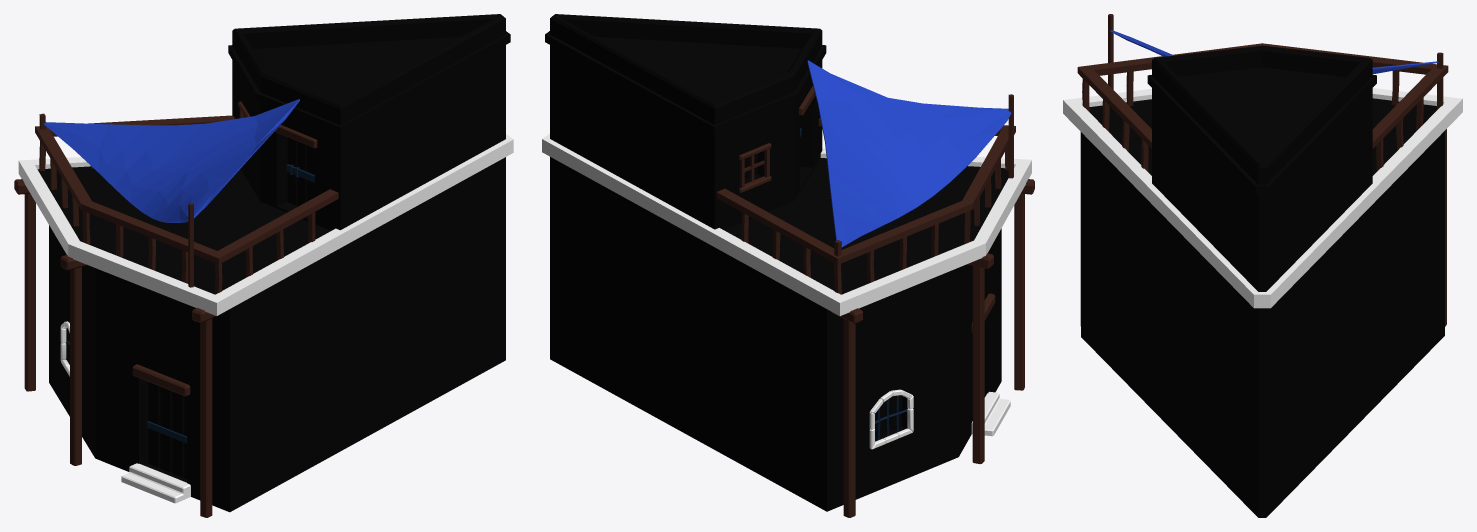
File: civilian_house_30_e.FBX
3 renders of one model, left to right at view 1: azimuth 30°, elevation 25°; view 2: azimuth 150°, elevation 25°; view 3: azimuth 270°, elevation 25°, orthographic. The views are drawn at different scales.
Parts seen in each view (by area): view 1: civilian_house_30_e; view 2: civilian_house_30_e; view 3: civilian_house_30_e.
Part boxes in pixels (left/top/right/bottom): civilian_house_30_e: left=14, top=14, right=513, bottom=517; civilian_house_30_e: left=542, top=14, right=1034, bottom=517; civilian_house_30_e: left=1063, top=14, right=1462, bottom=517.
Bounding box in the file's own units: 1268 × 933 × 960.
